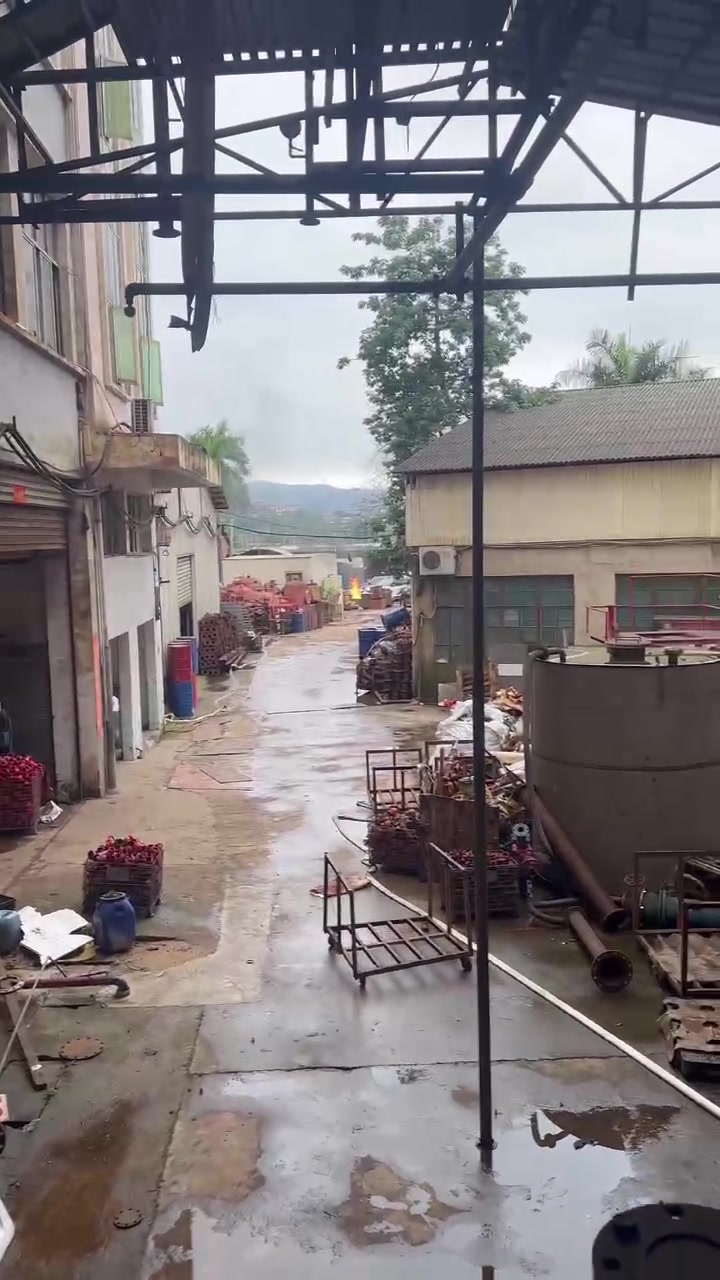fire: (348, 576, 362, 597)
